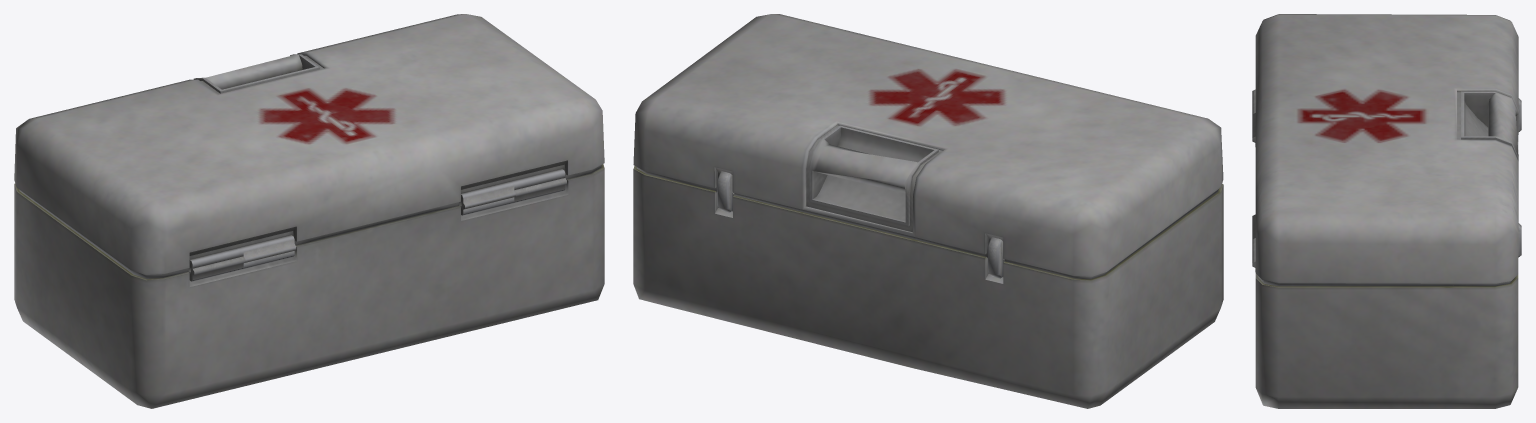
The model's file is toolboxA.gltf.
3 renders of one model, left to right at view 1: azimuth 30°, elevation 25°; view 2: azimuth 150°, elevation 25°; view 3: azimuth 270°, elevation 25°, orthographic. The views are drawn at different scales.
Parts seen in each view (by area): view 1: Lid, ToolBox; view 2: Lid, ToolBox, Locks; view 3: Lid, ToolBox, Locks.
Boxes of the visible parts, x1=… form: Lid: x1=14, y1=14, x2=604, y2=278; ToolBox: x1=14, y1=164, x2=604, y2=408; Lid: x1=633, y1=14, x2=1223, y2=279; ToolBox: x1=633, y1=165, x2=1223, y2=408; Locks: x1=717, y1=171, x2=1003, y2=278; Lid: x1=1252, y1=14, x2=1518, y2=286; ToolBox: x1=1252, y1=89, x2=1518, y2=408; Locks: x1=1518, y1=98, x2=1521, y2=257.
Size of the model in its own units: 0.7858 by 0.3291 by 0.411.
Materials: 1 (1 with a texture image).
